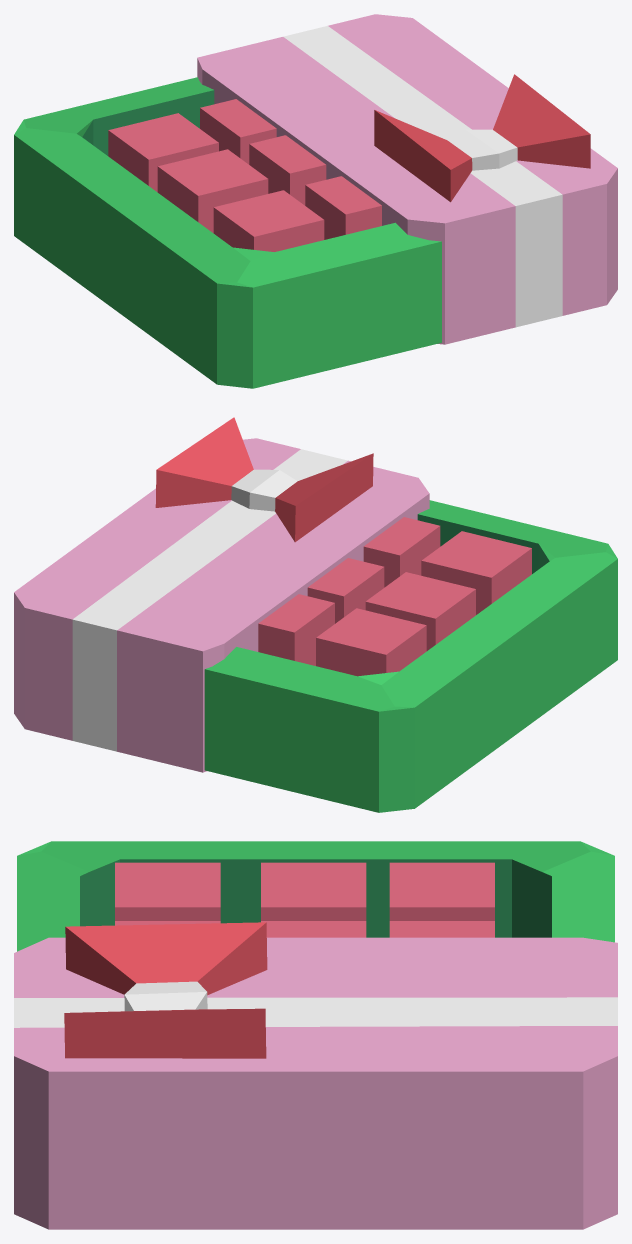
The model's file is gift_3.fbx.
3 views of the same model, one above another, from view 1: azimuth 30°, elevation 25°; view 2: azimuth 150°, elevation 25°; view 3: azimuth 270°, elevation 25° (orthographic). The views are drawn at different scales.
Visible parts, largest first — view 1: Cube.034; view 2: Cube.034; view 3: Cube.034.
Boxes of the visible parts, <box> form: Cube.034: <box>14,14,617,388</box>; Cube.034: <box>14,417,617,812</box>; Cube.034: <box>14,841,617,1229</box>.
Size of the model in its own units: 104 by 39.49 by 104.
